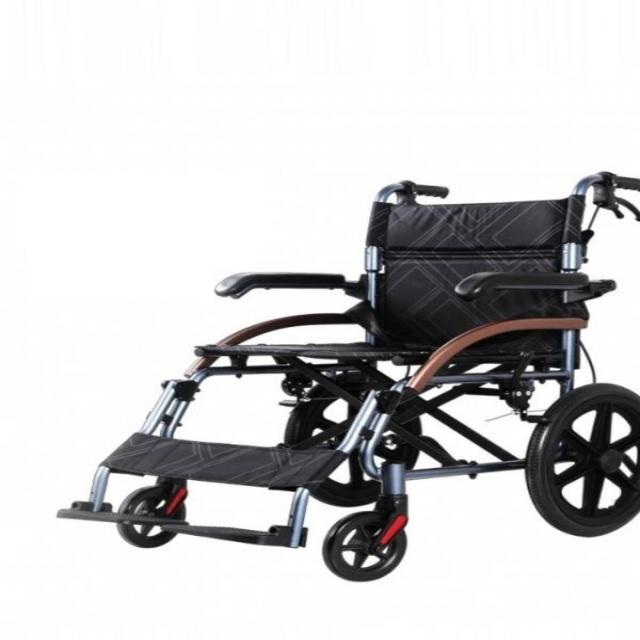wheelchair: (47, 155, 640, 593)
